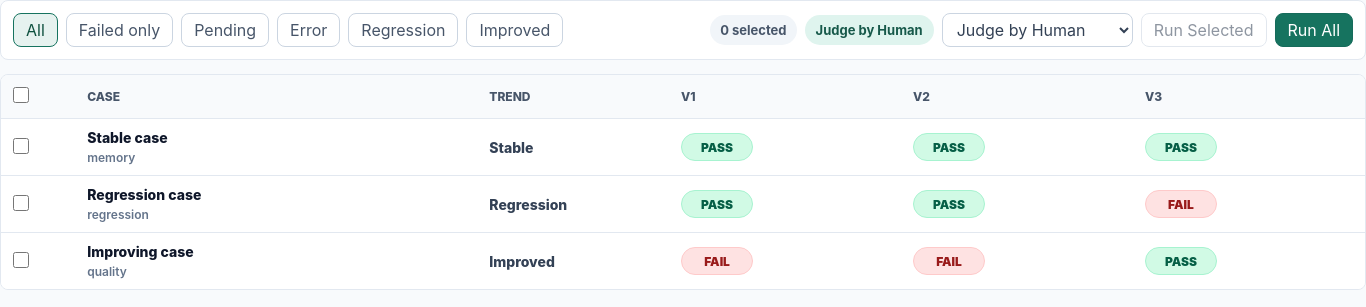
Test: VersionMatrix › filters failed and regression rows
Click the button "Failed only" at (120, 30), box [66,13,173,47]
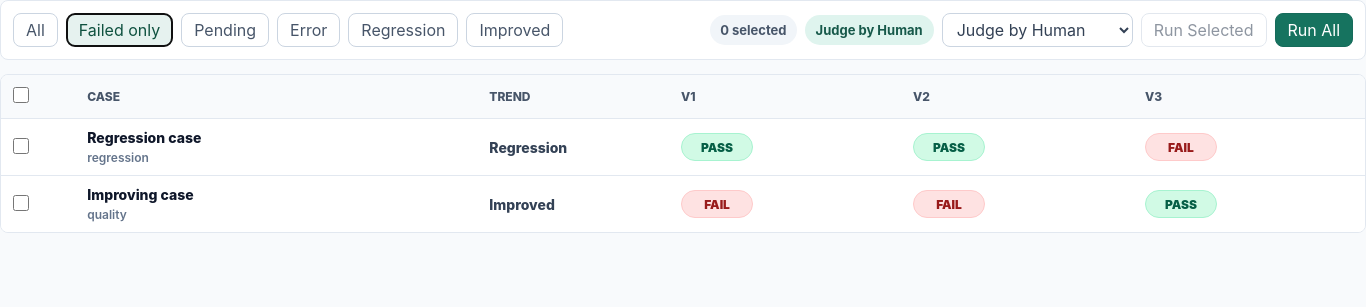
Expected: the row "Regression case regression regression pass pass fail" is shown, [1,119,1365,176]
Expected: the text "Stable case" is gone
Click the button "Regression" at (403, 30), box [348,13,458,47]
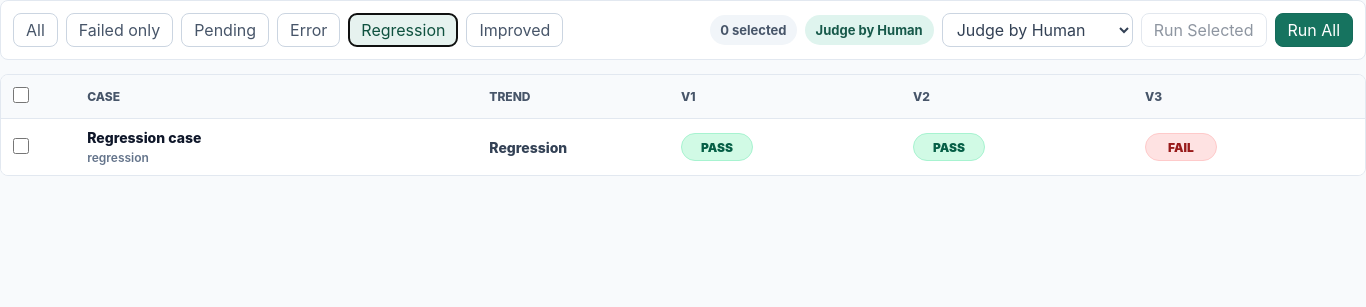
Expected: the row "Regression case regression regression pass pass fail" is shown, [1,119,1365,175]
Expected: the text "Improving case" is gone
